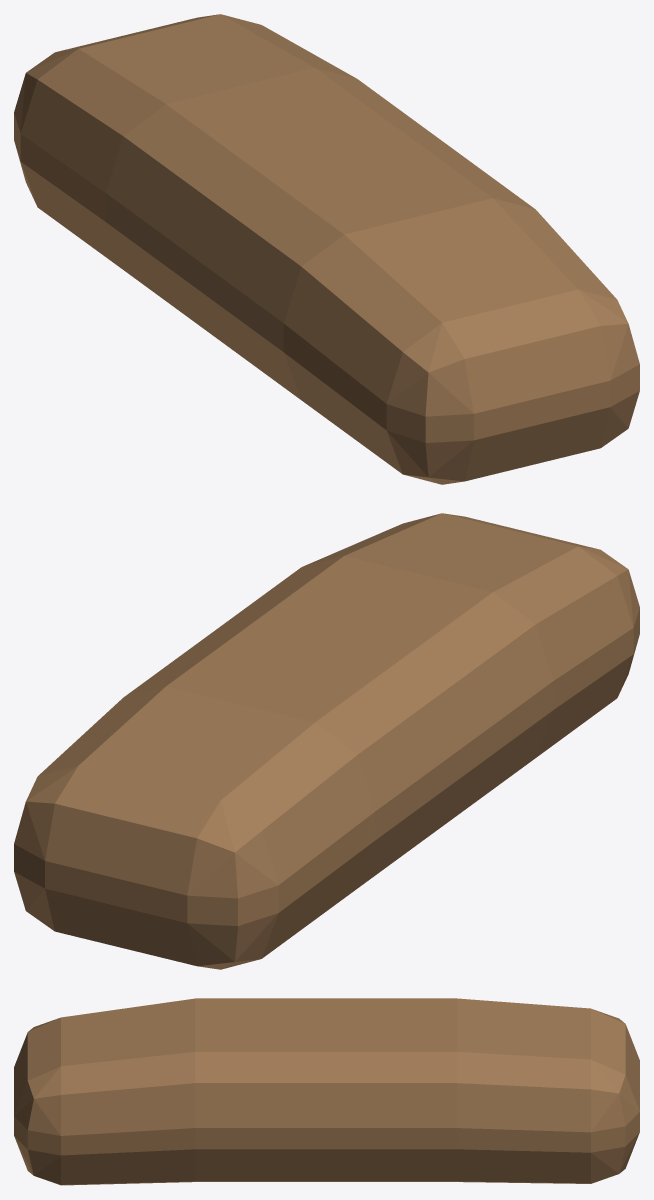
File: Pillow Var 2.fbx
3 views of the same model, one above another, from view 1: azimuth 30°, elevation 25°; view 2: azimuth 150°, elevation 25°; view 3: azimuth 270°, elevation 25° (orthographic). The views are drawn at different scales.
Parts seen in each view (by area): view 1: Pillow Var 2; view 2: Pillow Var 2; view 3: Pillow Var 2.
Part boxes in pixels (x1=…): Pillow Var 2: x1=14, y1=14, x2=639, y2=484; Pillow Var 2: x1=14, y1=513, x2=639, y2=969; Pillow Var 2: x1=14, y1=998, x2=639, y2=1185.
Bounding box in the file's own units: 34.45 × 22.56 × 94.19.
